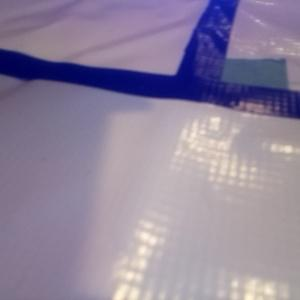top_right: (182, 58, 288, 100)
